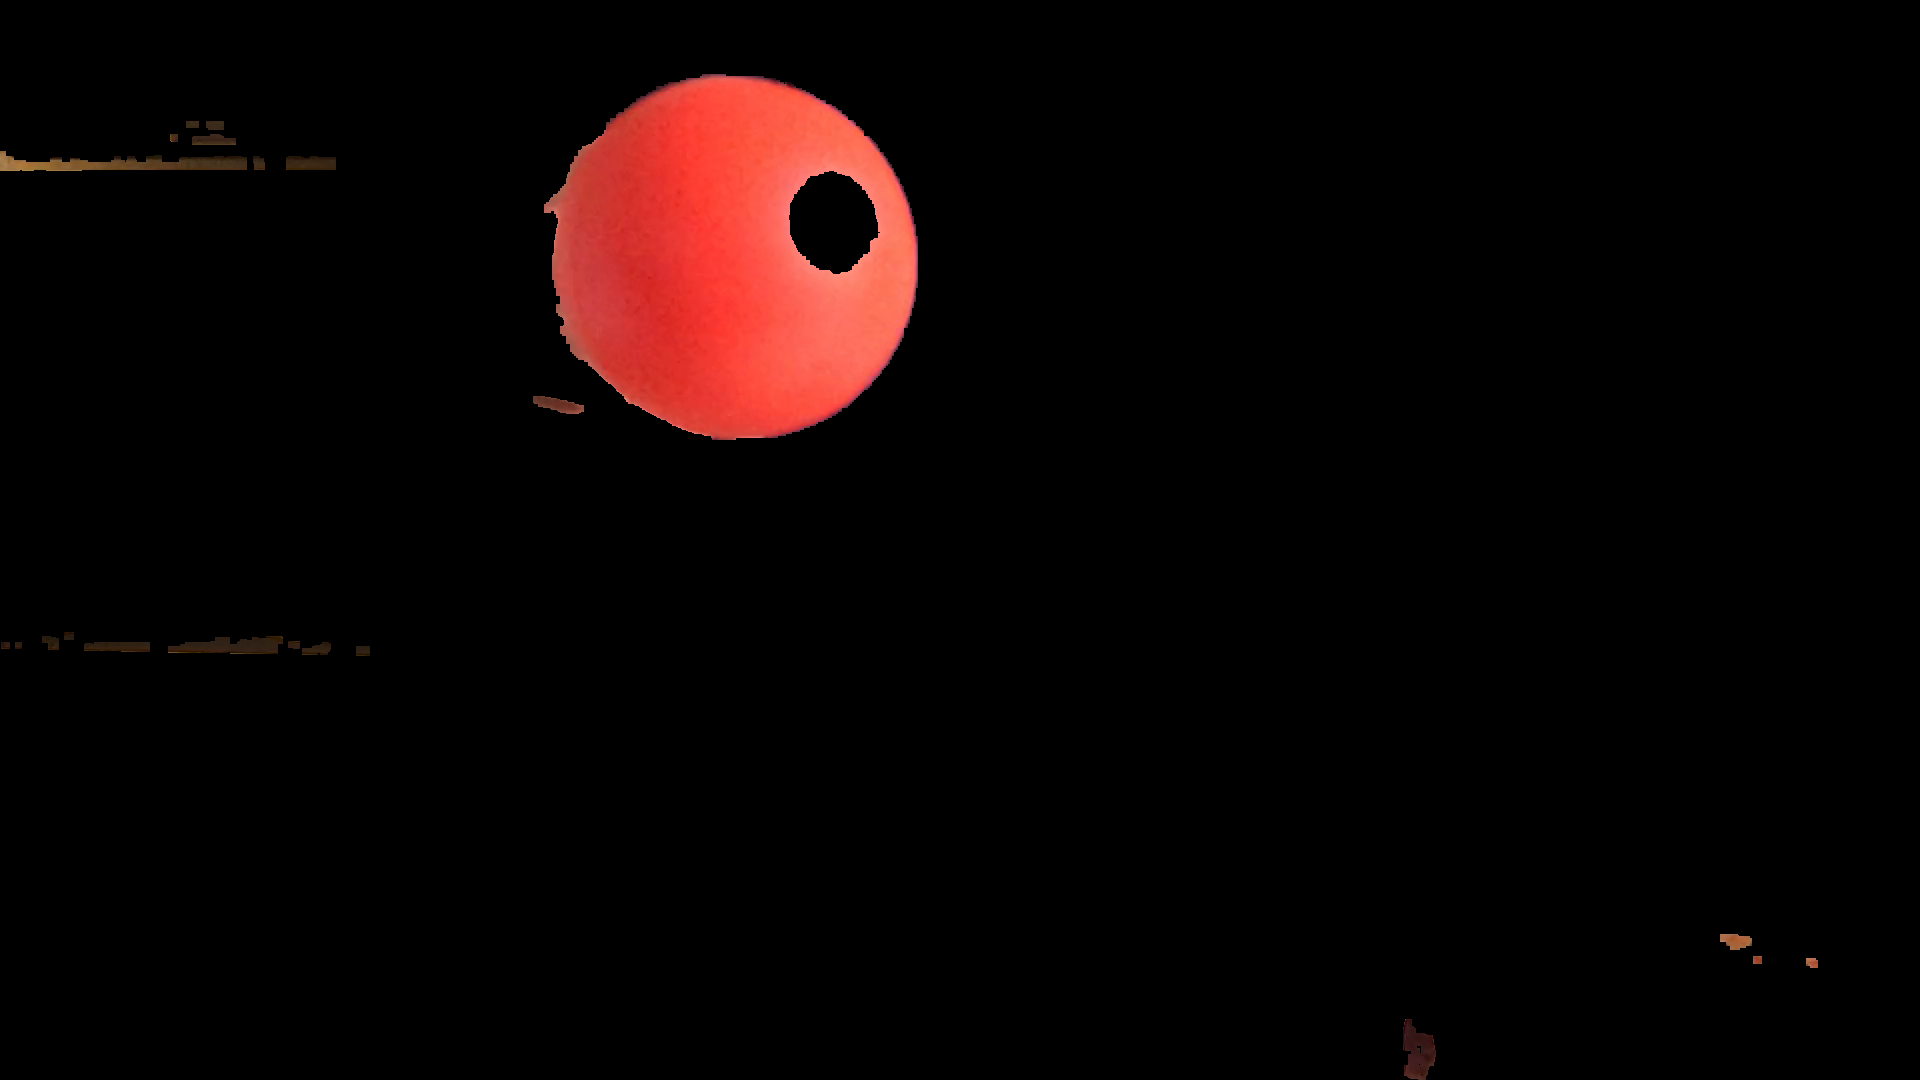Ball: (558, 73, 914, 444)
